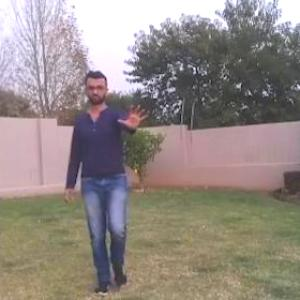follow_hand: (115, 100, 150, 130)
